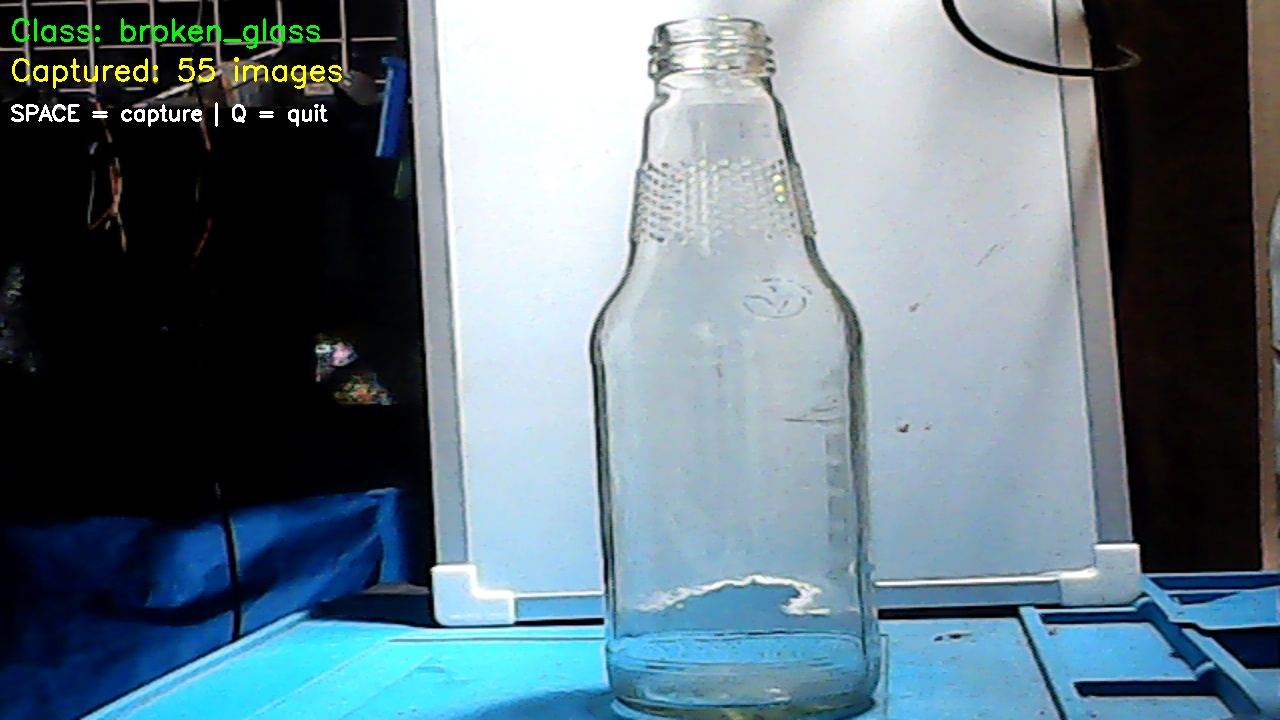broken_glass: (559, 6, 878, 710)
